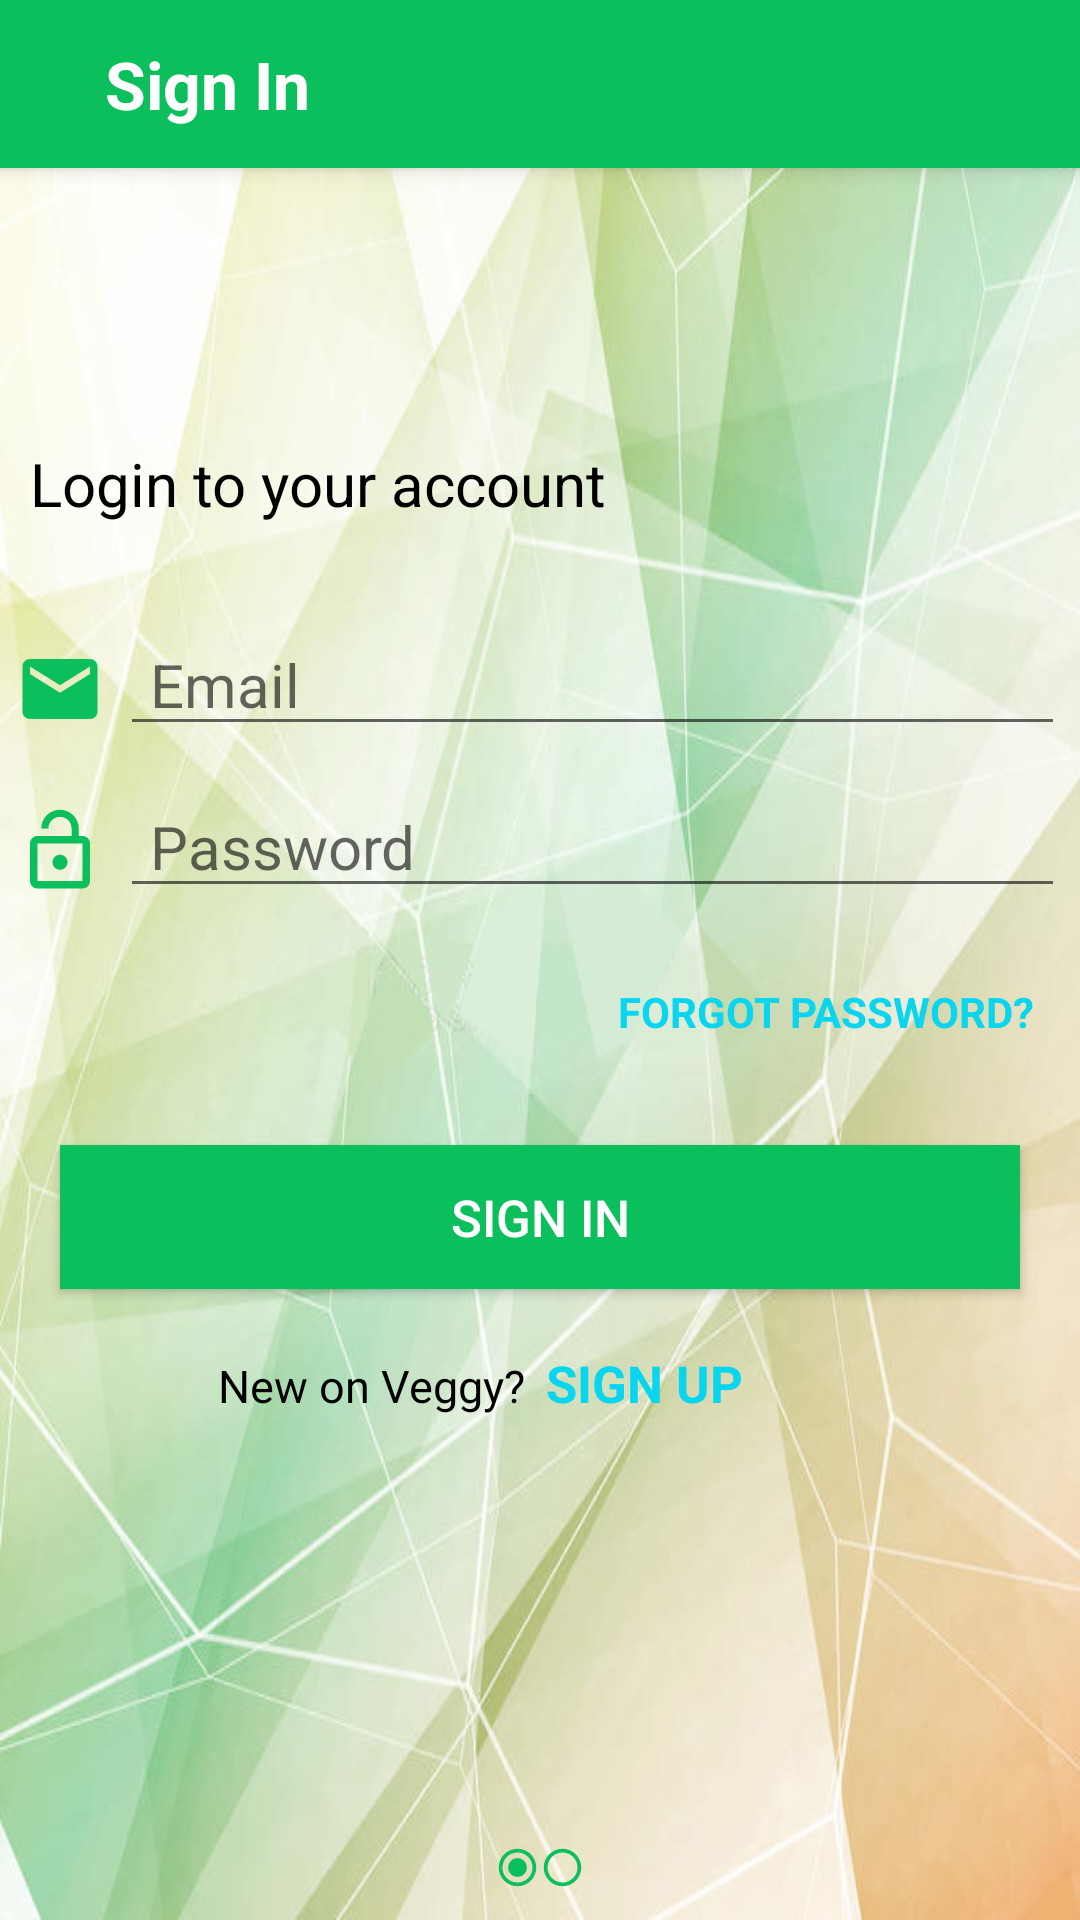

Point at icon controls on the screen. Image size 1080x1920, points as (x=x, y=y).
lock open: (x=60, y=851)
radio checked: (x=517, y=1868)
radio unchecked: (x=562, y=1867)
